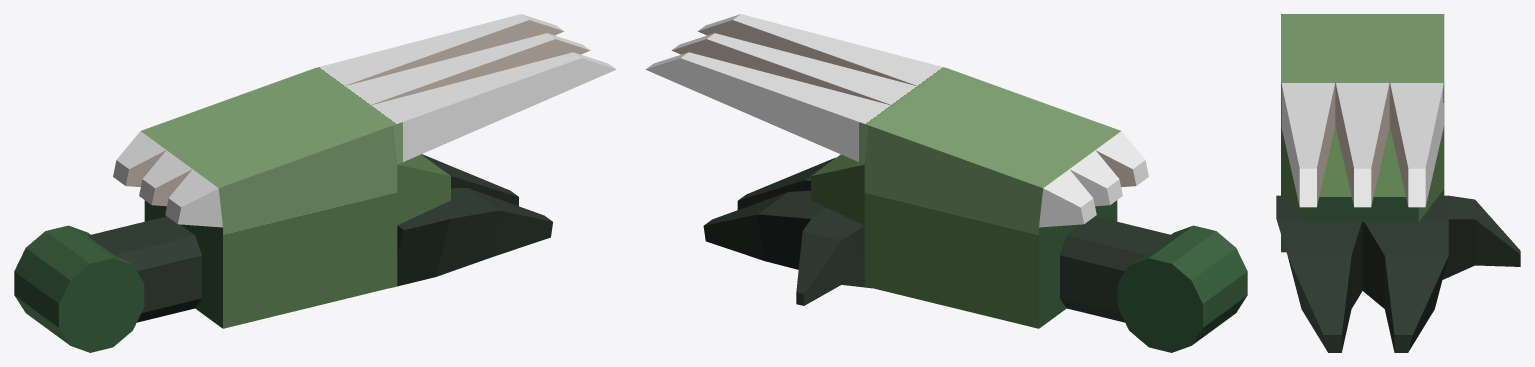
Rendered from TyranusRightArm.obj.
The picture shows the model from 3 angles, left to right: view 1: azimuth 30°, elevation 25°; view 2: azimuth 150°, elevation 25°; view 3: azimuth 270°, elevation 25°; orthographic projection. The views are drawn at different scales.
Visible parts, largest first — view 1: Forearm, cylinder, cuboid, Arm; view 2: Forearm, cuboid, cylinder, Arm; view 3: Forearm, cuboid.
Part boxes in pixels (<box>): Forearm: <box>113,14,616,328</box>; cylinder: <box>14,225,144,352</box>; cuboid: <box>394,154,552,287</box>; Arm: <box>88,216,201,322</box>; Forearm: <box>645,14,1148,328</box>; cuboid: <box>703,157,871,305</box>; cylinder: <box>1117,225,1247,352</box>; Arm: <box>1060,216,1173,322</box>; Forearm: <box>1281,14,1444,252</box>; cuboid: <box>1276,195,1520,352</box>.
Bounding box in the file's own units: 0.8871 × 0.2878 × 0.3275.
1 material, 1 textured.
